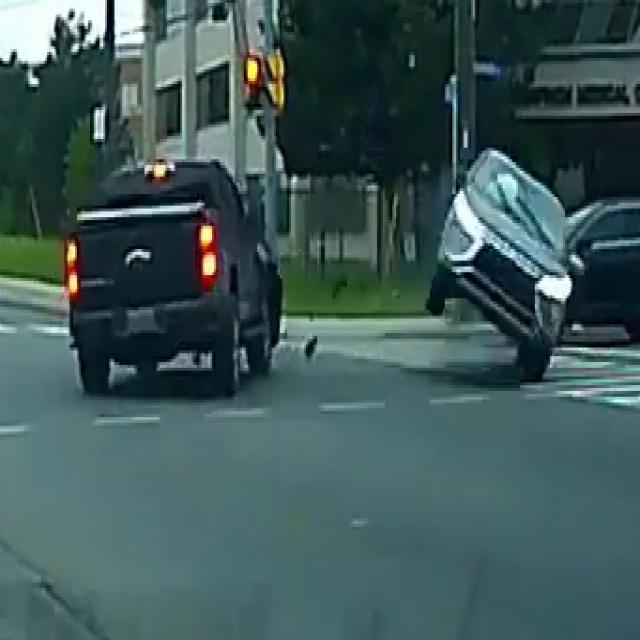accident: (20, 104, 573, 423), (45, 141, 298, 408), (402, 158, 595, 398)
